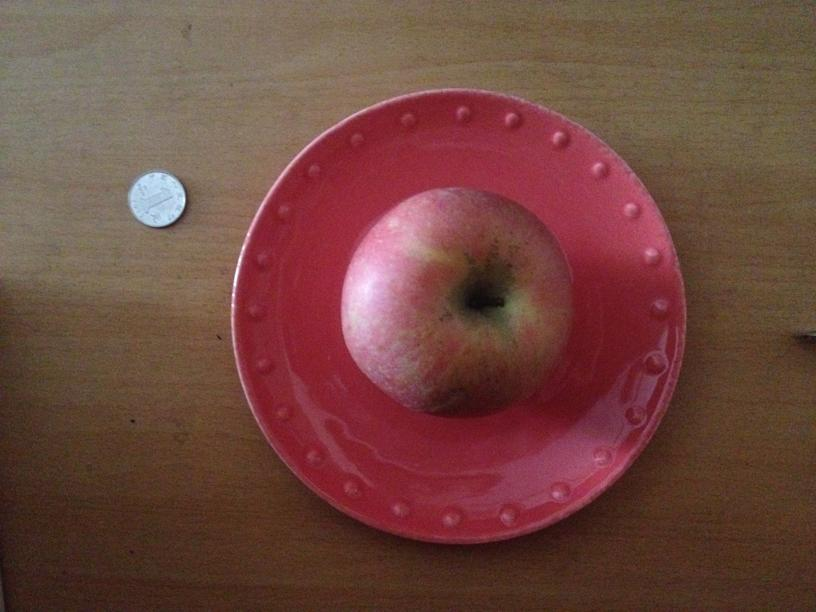apple: (342, 183, 577, 420)
coin: (125, 170, 188, 229)
